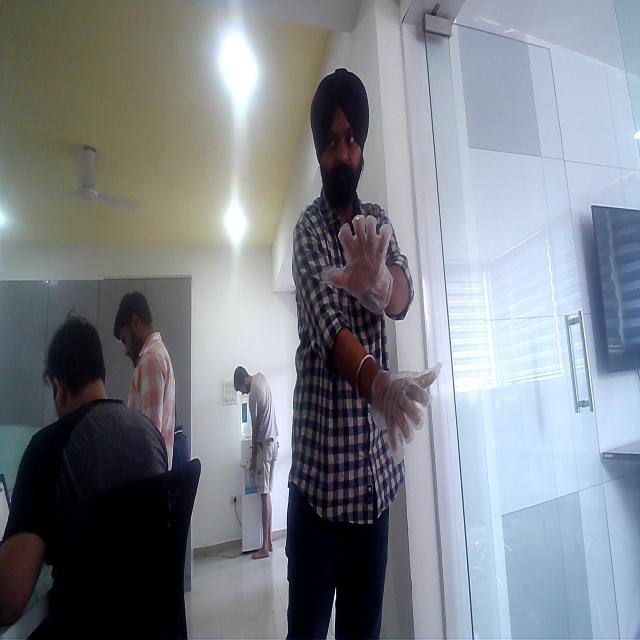with_gloves: (322, 213, 394, 320), (352, 340, 423, 433)
